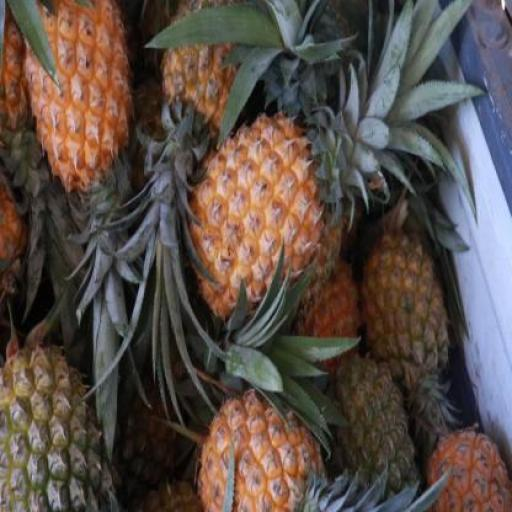------------------------------: (0, 344, 112, 511), (360, 225, 447, 398)
Pineapple - v8 v1: (185, 110, 334, 320), (21, 0, 134, 194), (198, 389, 316, 512), (424, 426, 512, 512)
